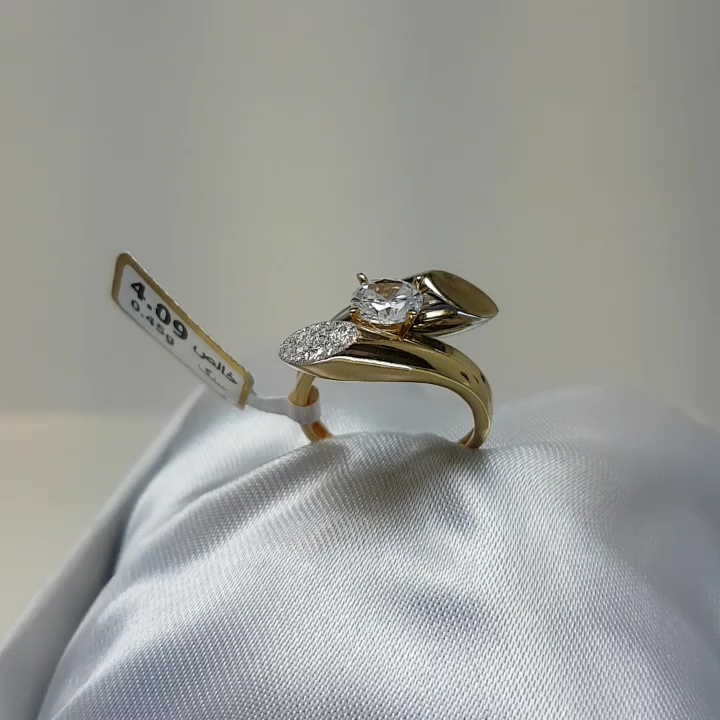Ring 7: (248, 232, 498, 476)
